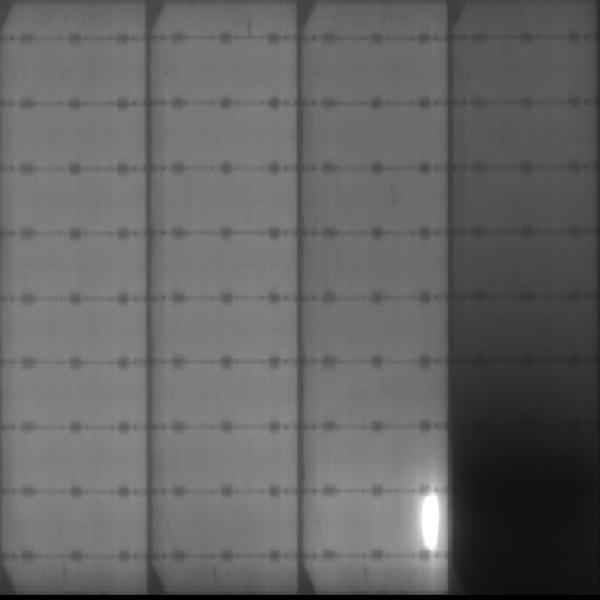hot_spot: (418, 492, 441, 553)
no_electricity: (456, 492, 597, 596)
